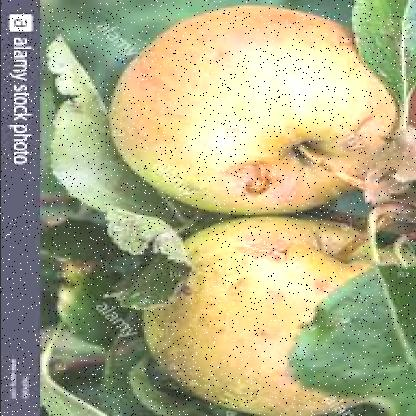damaged_apple: (118, 6, 386, 215), (146, 217, 388, 411)
